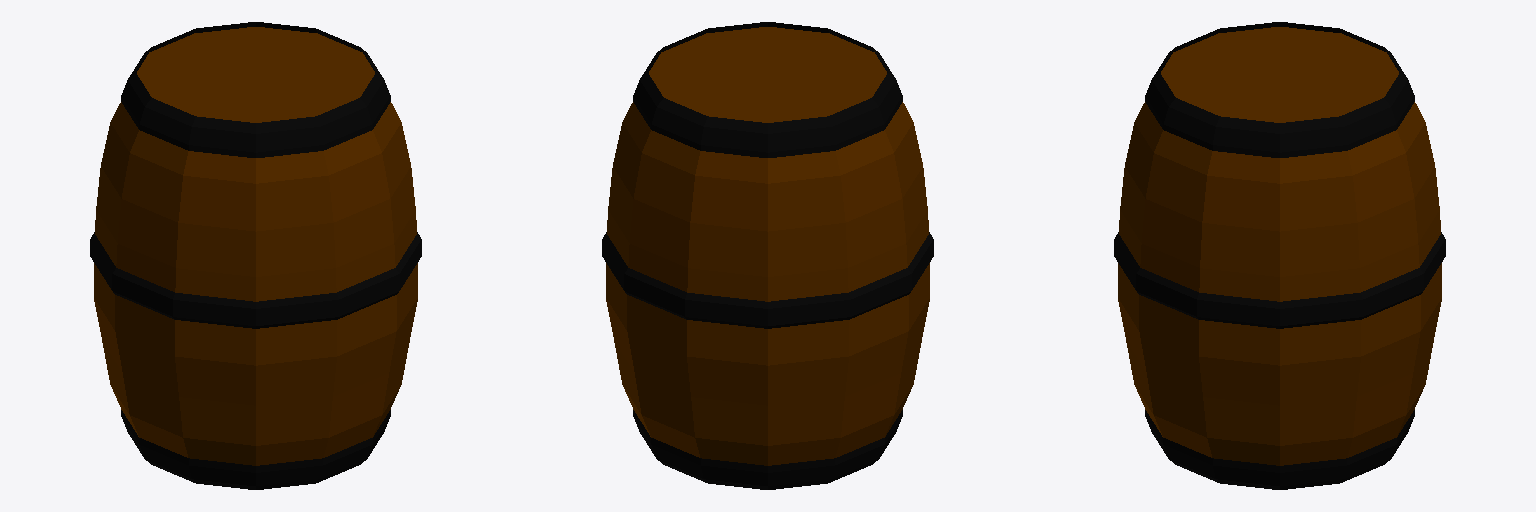
Rendered from barrel.obj.
3 views of the same model, side by side, from view 1: azimuth 30°, elevation 25°; view 2: azimuth 150°, elevation 25°; view 3: azimuth 270°, elevation 25° (orthographic).
Visible parts, largest first — view 1: pCylinder1, pPipe1, pPipe3, pPipe2; view 2: pCylinder1, pPipe1, pPipe3, pPipe2; view 3: pCylinder1, pPipe1, pPipe3, pPipe2.
Part boxes in pixels (x1,y1,x2,y2): pCylinder1: (94, 27, 417, 465); pPipe1: (121, 22, 390, 157); pPipe3: (90, 232, 421, 328); pPipe2: (121, 410, 390, 489); pCylinder1: (606, 27, 929, 465); pPipe1: (633, 22, 902, 157); pPipe3: (602, 232, 933, 328); pPipe2: (633, 410, 902, 489); pCylinder1: (1118, 27, 1441, 465); pPipe1: (1145, 22, 1414, 157); pPipe3: (1114, 232, 1445, 328); pPipe2: (1145, 410, 1414, 489).
Bounding box in the file's own units: 2.04 × 2.49 × 2.04.